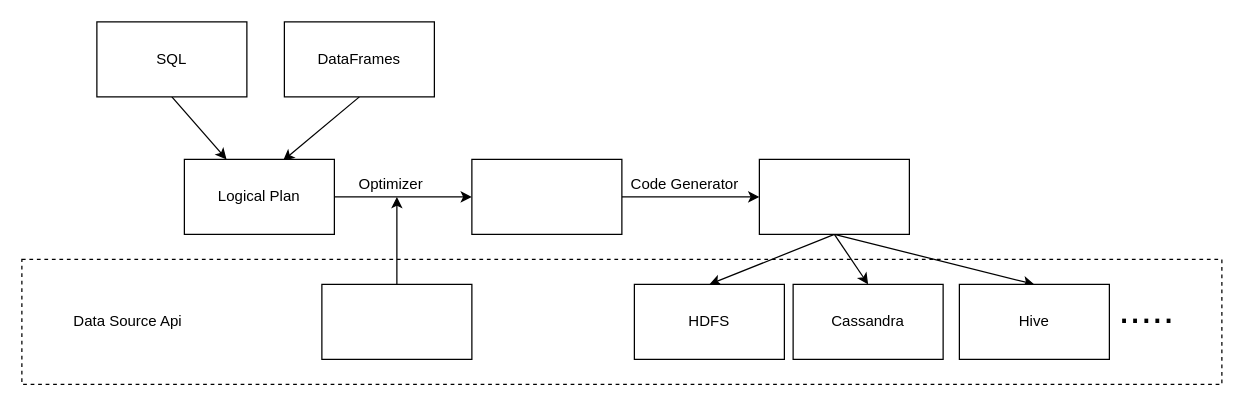
Some shapes in this 1244 by 406 pixel diagram are drawn without their labels. Each missing label, with the centre of its shape:
"Catalog" goes at point 396,321.
"Physical Plan" goes at point 546,196.
"RDDs" goes at point 833,196.
